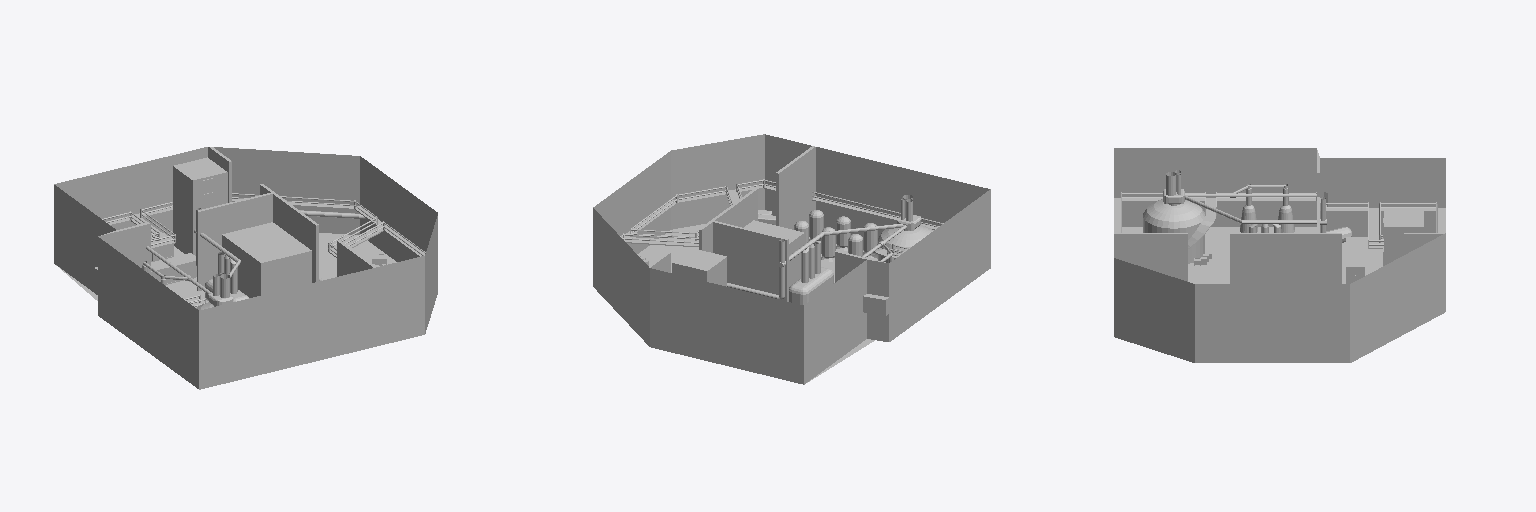
File: factory.obj
The picture shows the model from 3 angles: view 1: azimuth 30°, elevation 25°; view 2: azimuth 150°, elevation 25°; view 3: azimuth 270°, elevation 25°; orthographic projection.
Visible parts, largest first — view 1: factory_無標題.002; view 2: factory_無標題.002; view 3: factory_無標題.002.
Boxes of the visible parts, <box> form: factory_無標題.002: <box>54,147,437,389</box>; factory_無標題.002: <box>593,134,990,384</box>; factory_無標題.002: <box>1114,148,1445,362</box>.
Size of the model in its own units: 61.73 by 16.96 by 63.49.